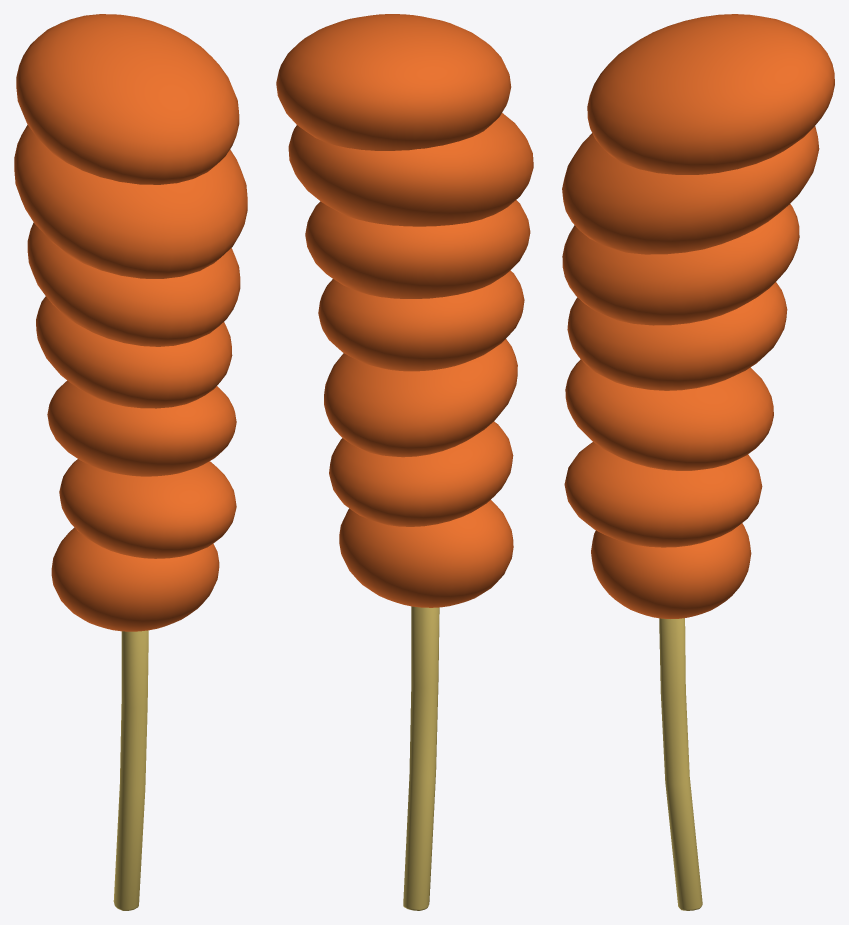
Rendered from Sweet_4.fbx.
The picture shows the model from 3 angles, left to right: view 1: azimuth 30°, elevation 25°; view 2: azimuth 150°, elevation 25°; view 3: azimuth 270°, elevation 25°; orthographic projection. The views are drawn at different scales.
Parts seen in each view (by area): view 1: Sweet_4; view 2: Sweet_4; view 3: Sweet_4.
Part boxes in pixels (x1,y1,x2,y2): Sweet_4: [14, 14, 247, 910]; Sweet_4: [276, 14, 533, 910]; Sweet_4: [562, 14, 834, 910].
Bounding box in the file's own units: 16.49 × 67.1 × 18.84.
